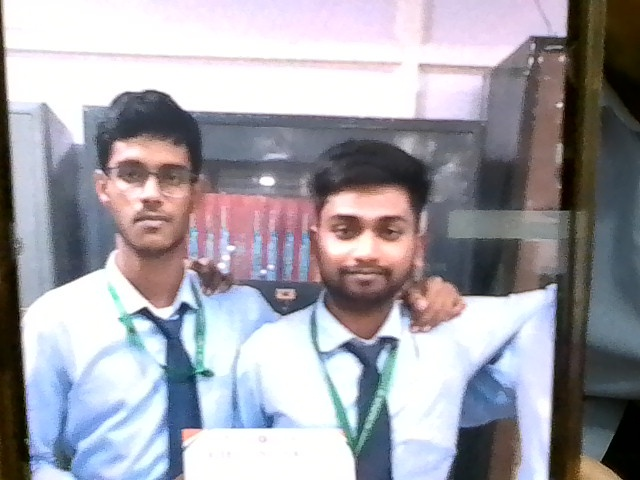real: (312, 151, 426, 312), (94, 101, 204, 257)
